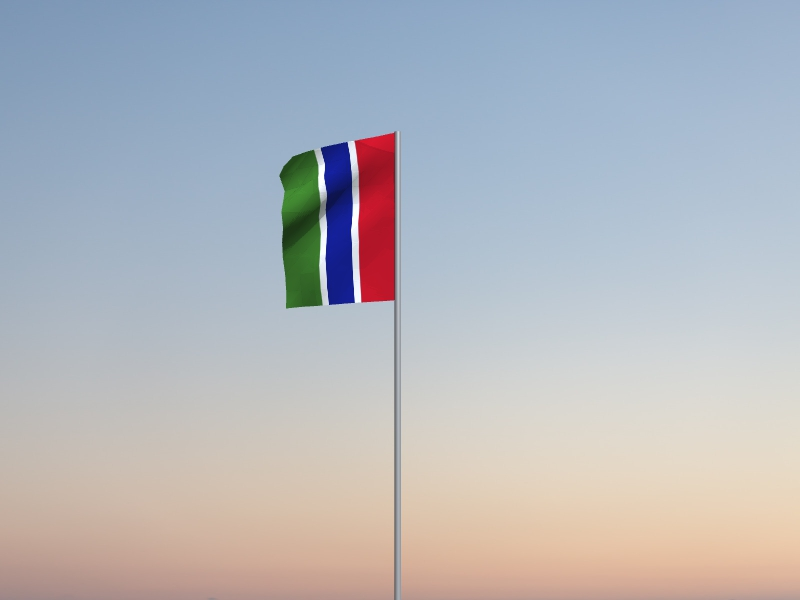gm: (279, 133, 395, 310)
